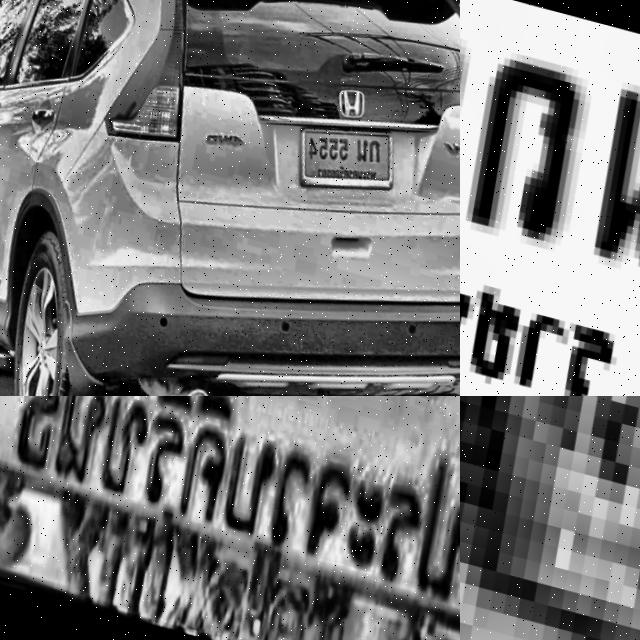license-plate: (0, 396, 460, 640), (460, 0, 640, 396), (460, 396, 640, 640), (281, 99, 400, 206)
